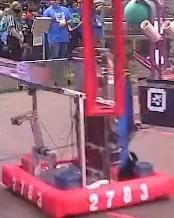red_number: (84, 181, 152, 214)
